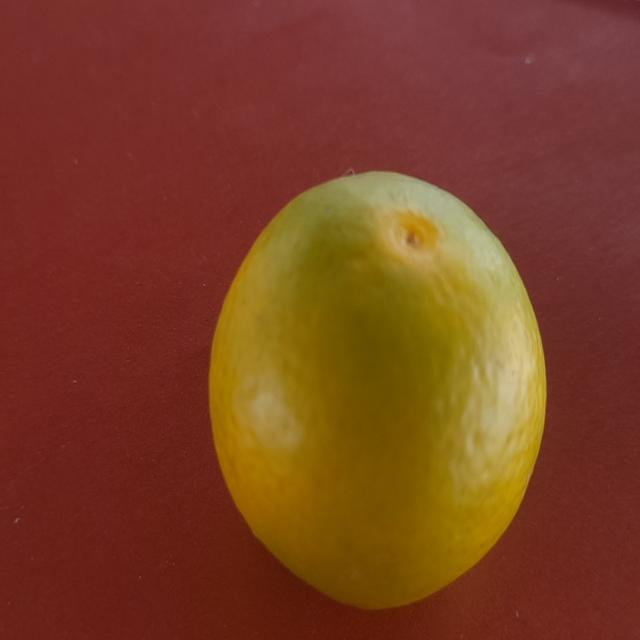greening: (209, 175, 543, 606)
